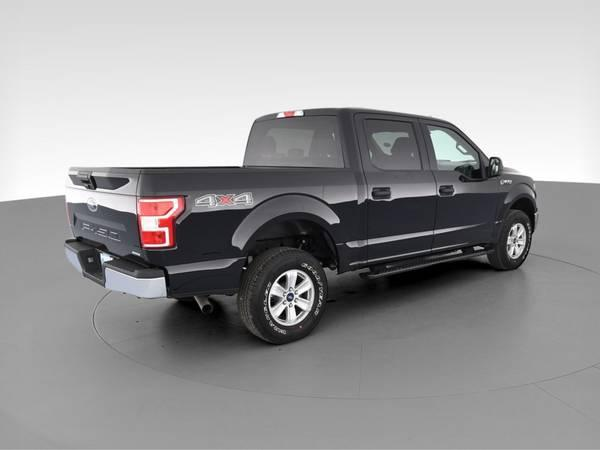Front_Fender: (492, 170, 536, 243)
Front_Right_Door: (432, 170, 498, 251)
Front_Right_Window: (420, 116, 502, 174)
Rear_Bumper: (62, 240, 165, 298)
Rear_Fender: (136, 164, 366, 295)
Rear_Right_Door: (357, 170, 437, 264)
Rear_Right_Window: (347, 109, 431, 171)
Rear_Windshield: (243, 108, 353, 169)
Right_Taillight: (134, 197, 185, 249)
Tailgate: (65, 167, 146, 262)
Wheel: (239, 245, 330, 344), (486, 208, 533, 268)
